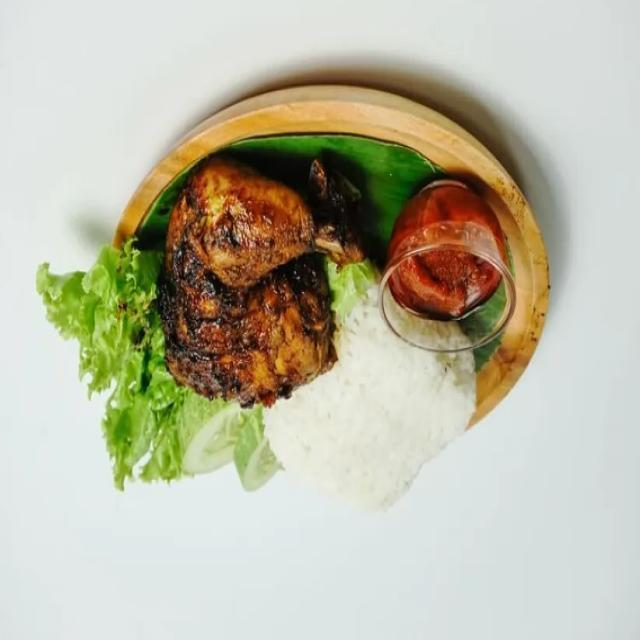ayam_goreng: (134, 144, 356, 447)
